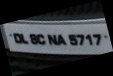character: (45, 33, 58, 45), (91, 32, 102, 45), (67, 33, 78, 45), (36, 32, 46, 45), (56, 33, 66, 45), (29, 33, 39, 44), (19, 32, 28, 44), (76, 33, 85, 45), (84, 33, 93, 45), (12, 32, 21, 43)
